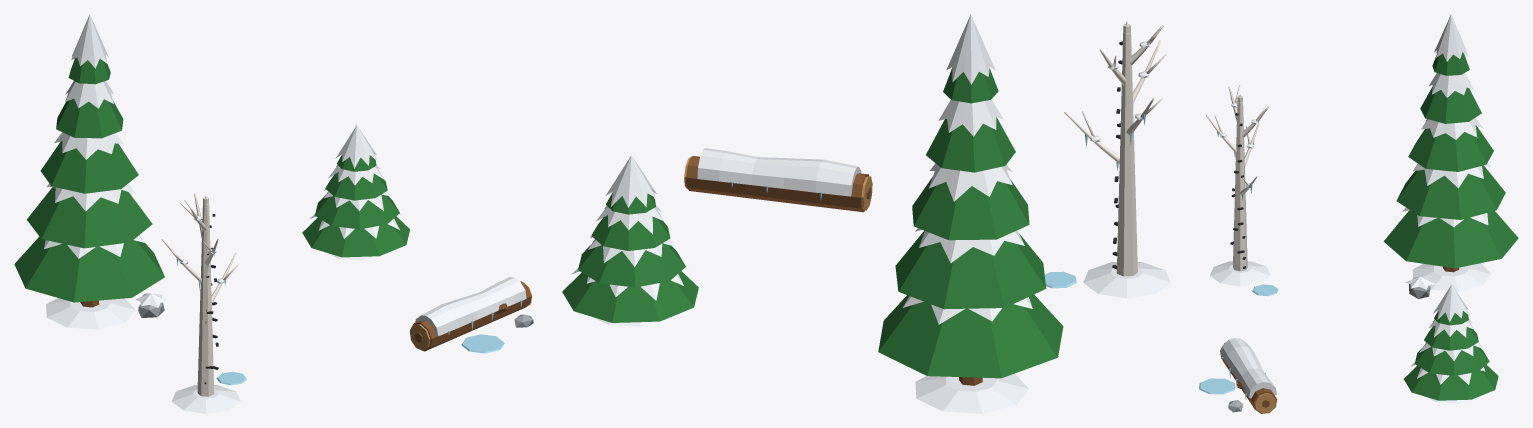
File: snowy-pine-tree-set.glb
3 renders of one model, left to right at view 1: azimuth 30°, elevation 25°; view 2: azimuth 150°, elevation 25°; view 3: azimuth 270°, elevation 25°, orthographic. The views are drawn at different scales.
Visible parts, largest first — view 1: Pine_Tall, Pine_Bushy, Log_Fallen, Birch_Frosted; view 2: Pine_Tall, Pine_Bushy, Log_Fallen, Birch_Frosted; view 3: Pine_Tall, Pine_Bushy, Birch_Frosted, Log_Fallen.
Part boxes in pixels (left/top/right/bottom): Pine_Tall: left=14, top=14, right=168, bottom=329; Pine_Bushy: left=302, top=125, right=410, bottom=260; Log_Fallen: left=409, top=277, right=533, bottom=353; Birch_Frosted: left=161, top=193, right=246, bottom=413; Pine_Tall: left=878, top=14, right=1063, bottom=413; Pine_Bushy: left=562, top=155, right=698, bottom=326; Log_Fallen: left=684, top=148, right=872, bottom=212; Birch_Frosted: left=1044, top=21, right=1170, bottom=298; Pine_Tall: left=1383, top=14, right=1518, bottom=298; Pine_Bushy: left=1404, top=284, right=1498, bottom=403; Birch_Frosted: left=1206, top=85, right=1278, bottom=296; Log_Fallen: left=1199, top=338, right=1277, bottom=413.
Size of the model in its own units: 41.75 by 29.75 by 33.02.
